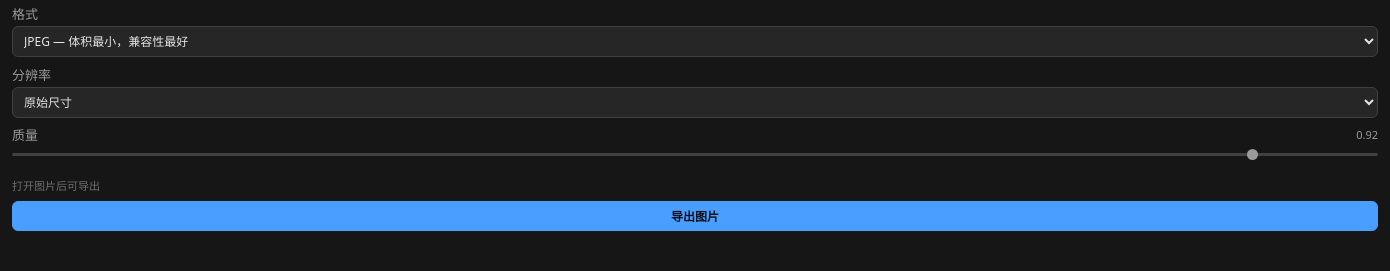
Test: ExportPanel › reports a missing renderer instead of throwing
Click the button "导出图片".
click(695, 216)  # box [12, 201, 1378, 231]
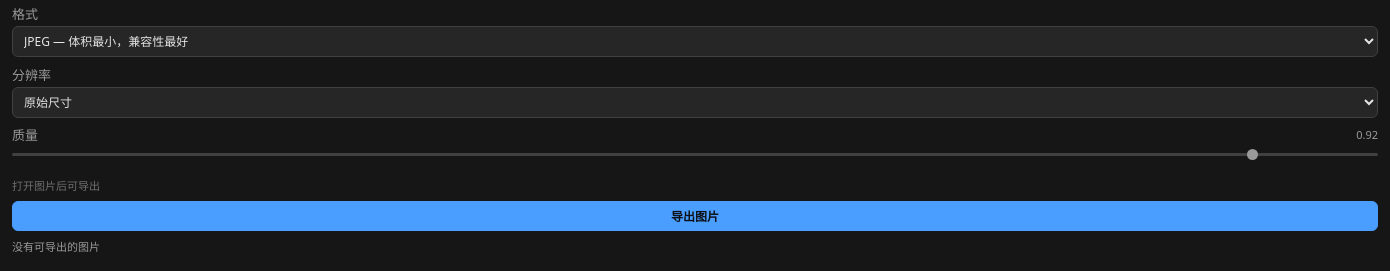
Expected: the text "没有可导出的图片" is shown, [12, 239, 100, 254]
